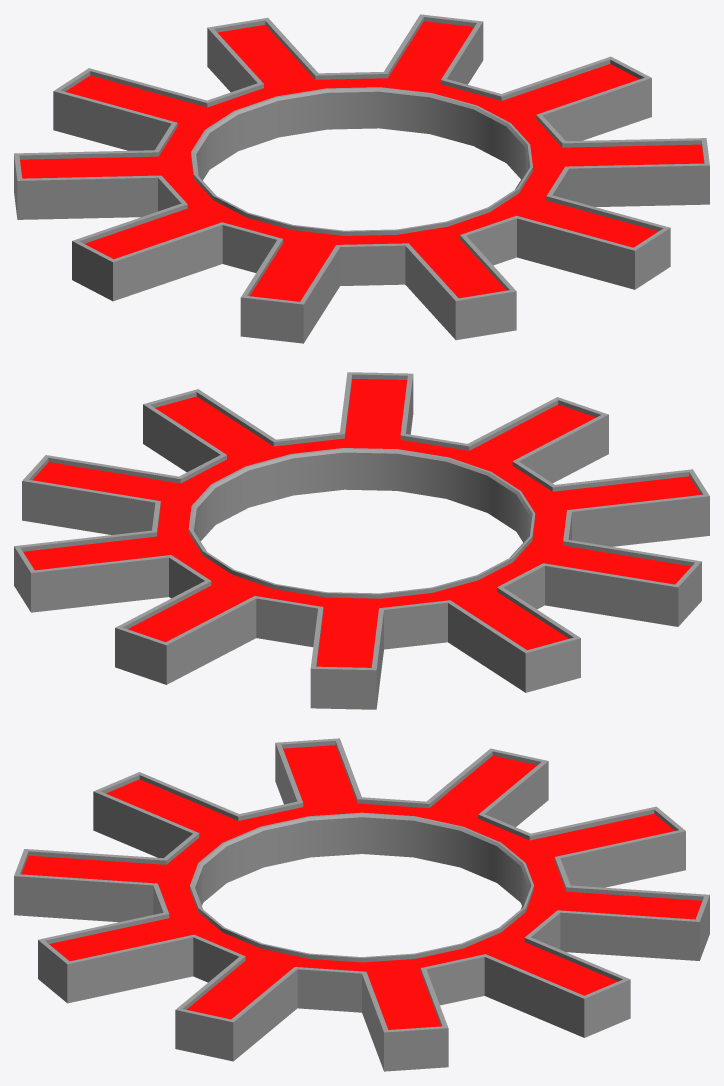
Rendered from SunSign.fbx.
3 views of the same model, one above another, from view 1: azimuth 30°, elevation 25°; view 2: azimuth 150°, elevation 25°; view 3: azimuth 270°, elevation 25° (orthographic).
Visible parts, largest first — view 1: SunSign; view 2: SunSign; view 3: SunSign.
Part boxes in pixels (x1,y1,x2,y2): SunSign: (14,14,709,343); SunSign: (14,372,709,709); SunSign: (14,738,709,1071).
Size of the model in its own units: 257 by 15.91 by 257.
